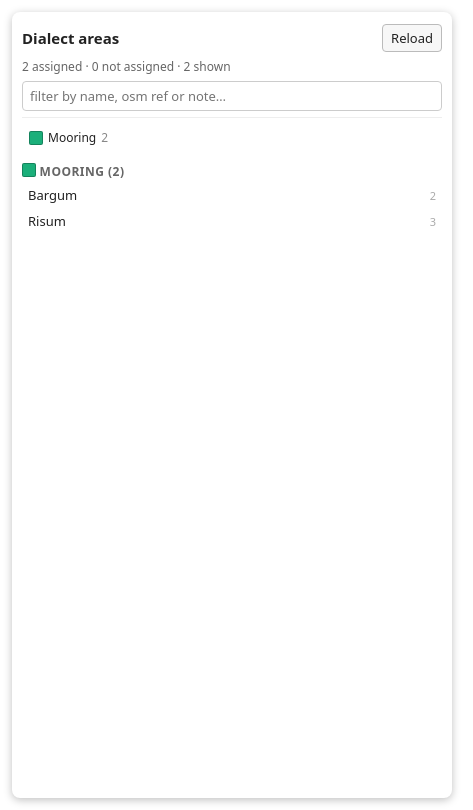
Test case: AreaPanel › keeps the municipality selected across a rebuild that moved it
Click the button "Risum 3": (47, 221) [22,208,442,234]
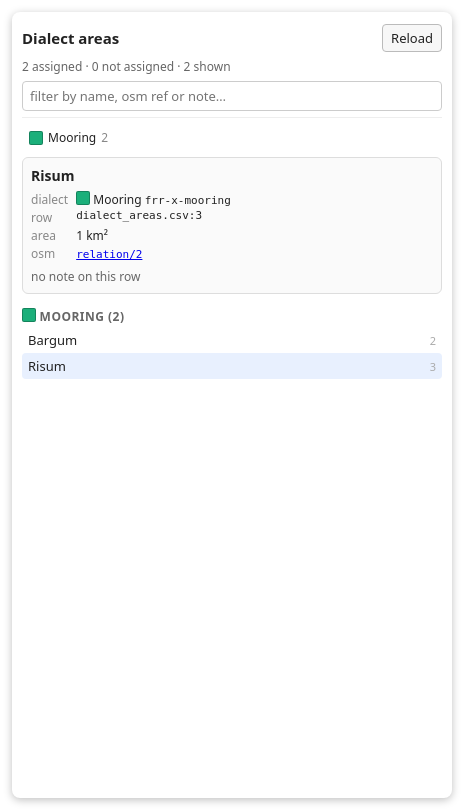
Click the button "Reload": (412, 38) [382,24,442,52]
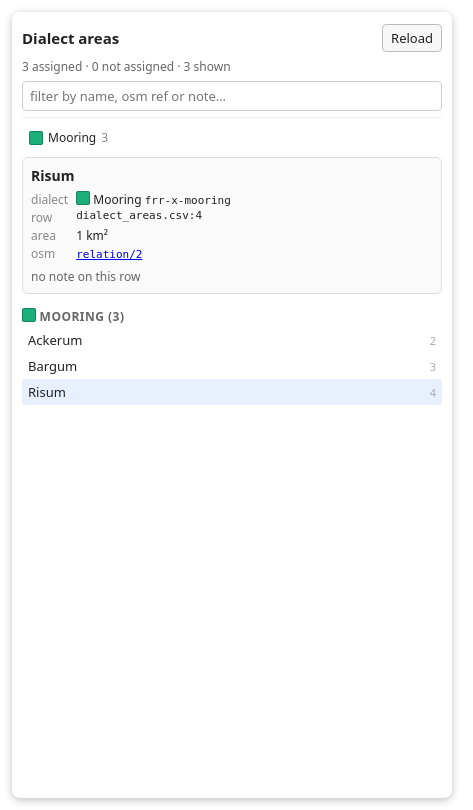
Now the heading "Risum" is shown, box [31,166,74,185]
Now the button "Ackerum 2" is shown, box [22,327,442,353]
